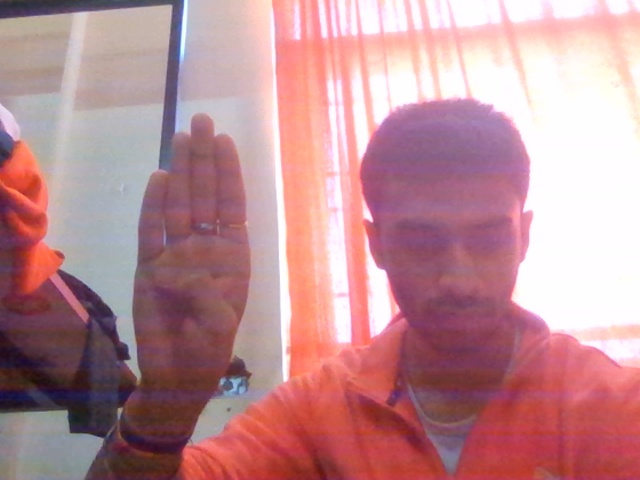B: (110, 105, 287, 428)
